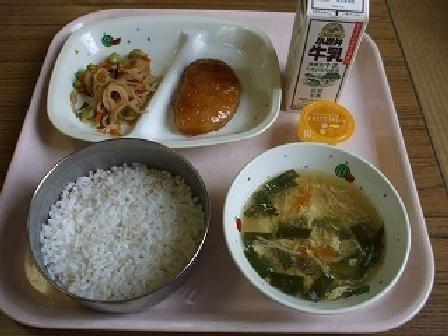Cup desserts: (292, 98, 354, 152)
Milk: (277, 0, 374, 105)
Rice: (36, 139, 210, 291)
Soups: (236, 160, 390, 294)
cutlet: (165, 54, 243, 135)
salad with sauce: (57, 46, 147, 132)
